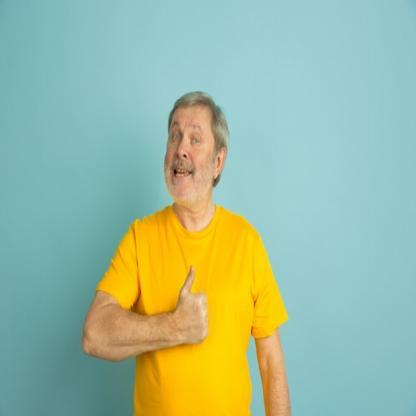thumb_up: (170, 263, 210, 349)
